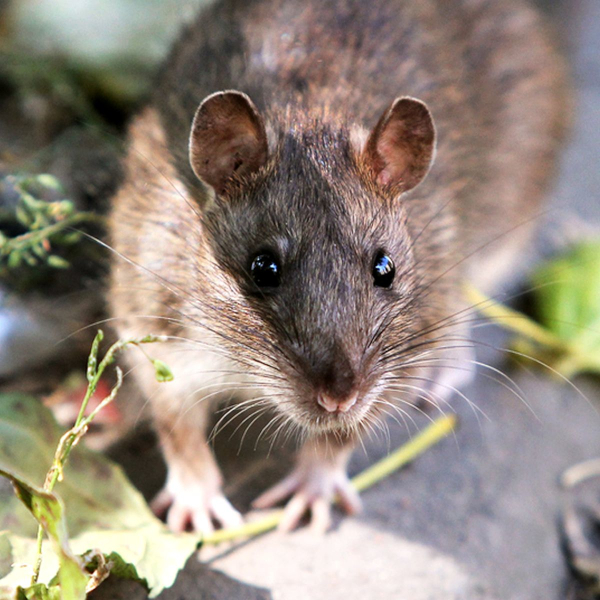rat: (116, 69, 459, 539)
